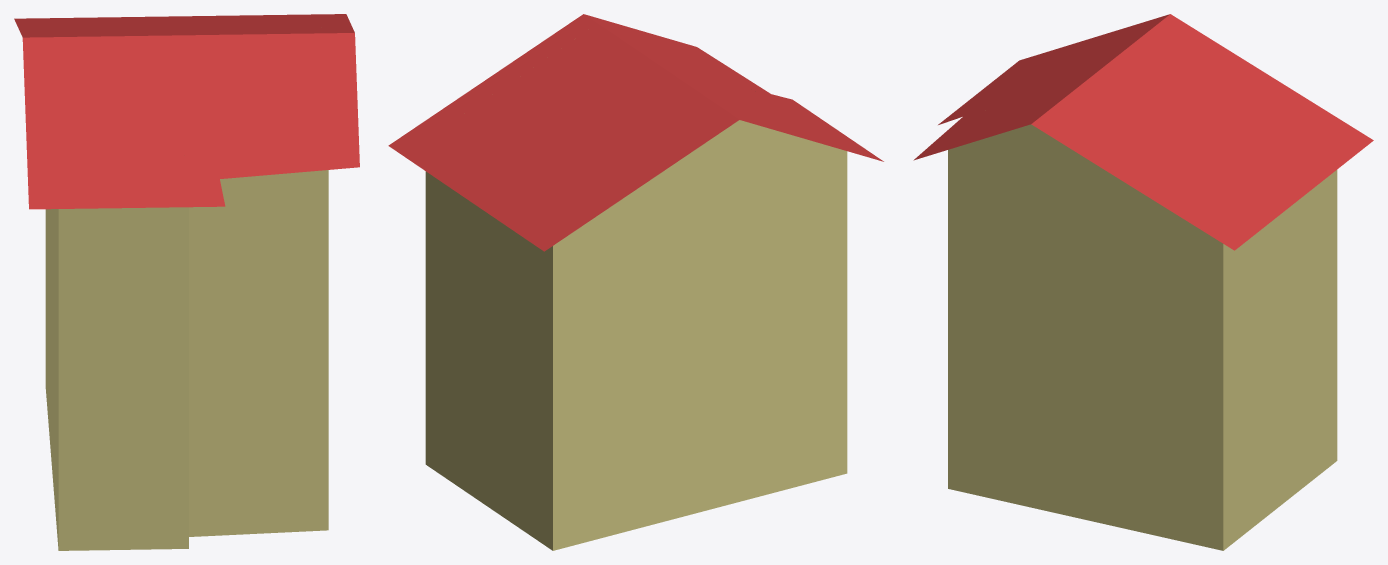
3 views of the same model, side by side, from view 1: azimuth 30°, elevation 25°; view 2: azimuth 150°, elevation 25°; view 3: azimuth 270°, elevation 25° (orthographic). The views are drawn at different scales.
Visible parts, largest first — view 1: group_5, group_3, group_4; view 2: group_5, group_3, group_4; view 3: group_5, group_3, group_4.
Boxes of the visible parts, x1,y1,x2,y2 form: group_5: [45, 170, 328, 550]; group_3: [14, 14, 359, 209]; group_4: [23, 14, 359, 209]; group_5: [425, 120, 847, 550]; group_3: [389, 14, 883, 251]; group_4: [388, 14, 882, 176]; group_5: [948, 124, 1337, 550]; group_3: [914, 14, 1373, 249]; group_4: [938, 14, 1270, 250].
Size of the model in its own units: 12.43 by 12.72 by 12.07.
